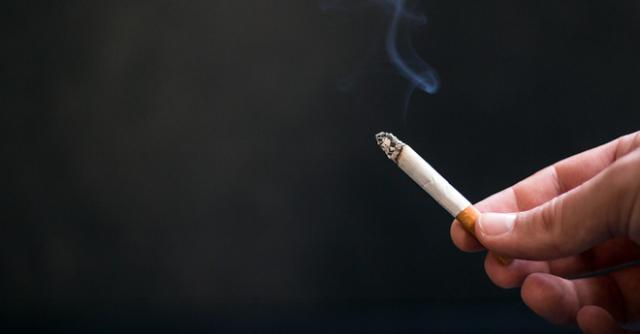Cigarette: (375, 132, 513, 266)
